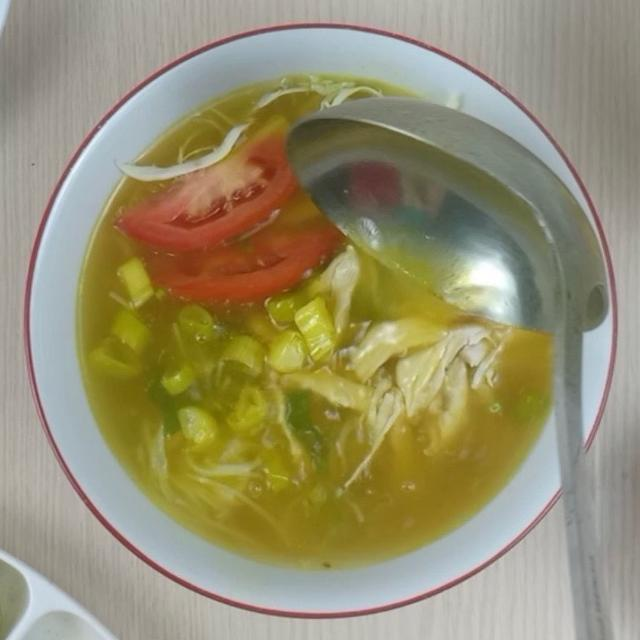Soto: (78, 73, 560, 569)
